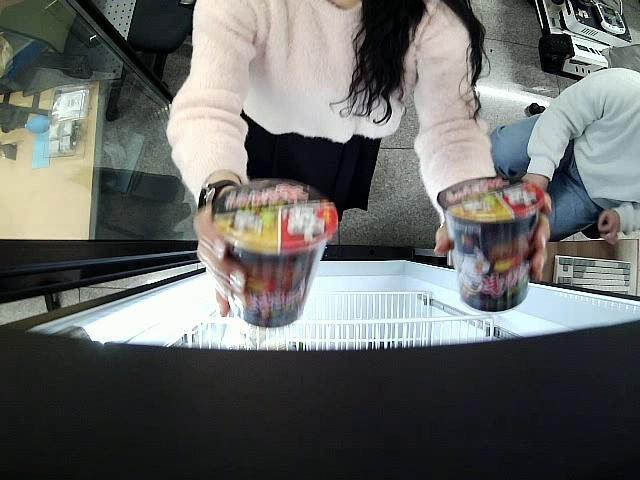08_buldak_S: (213, 180, 340, 326), (437, 175, 544, 312)
